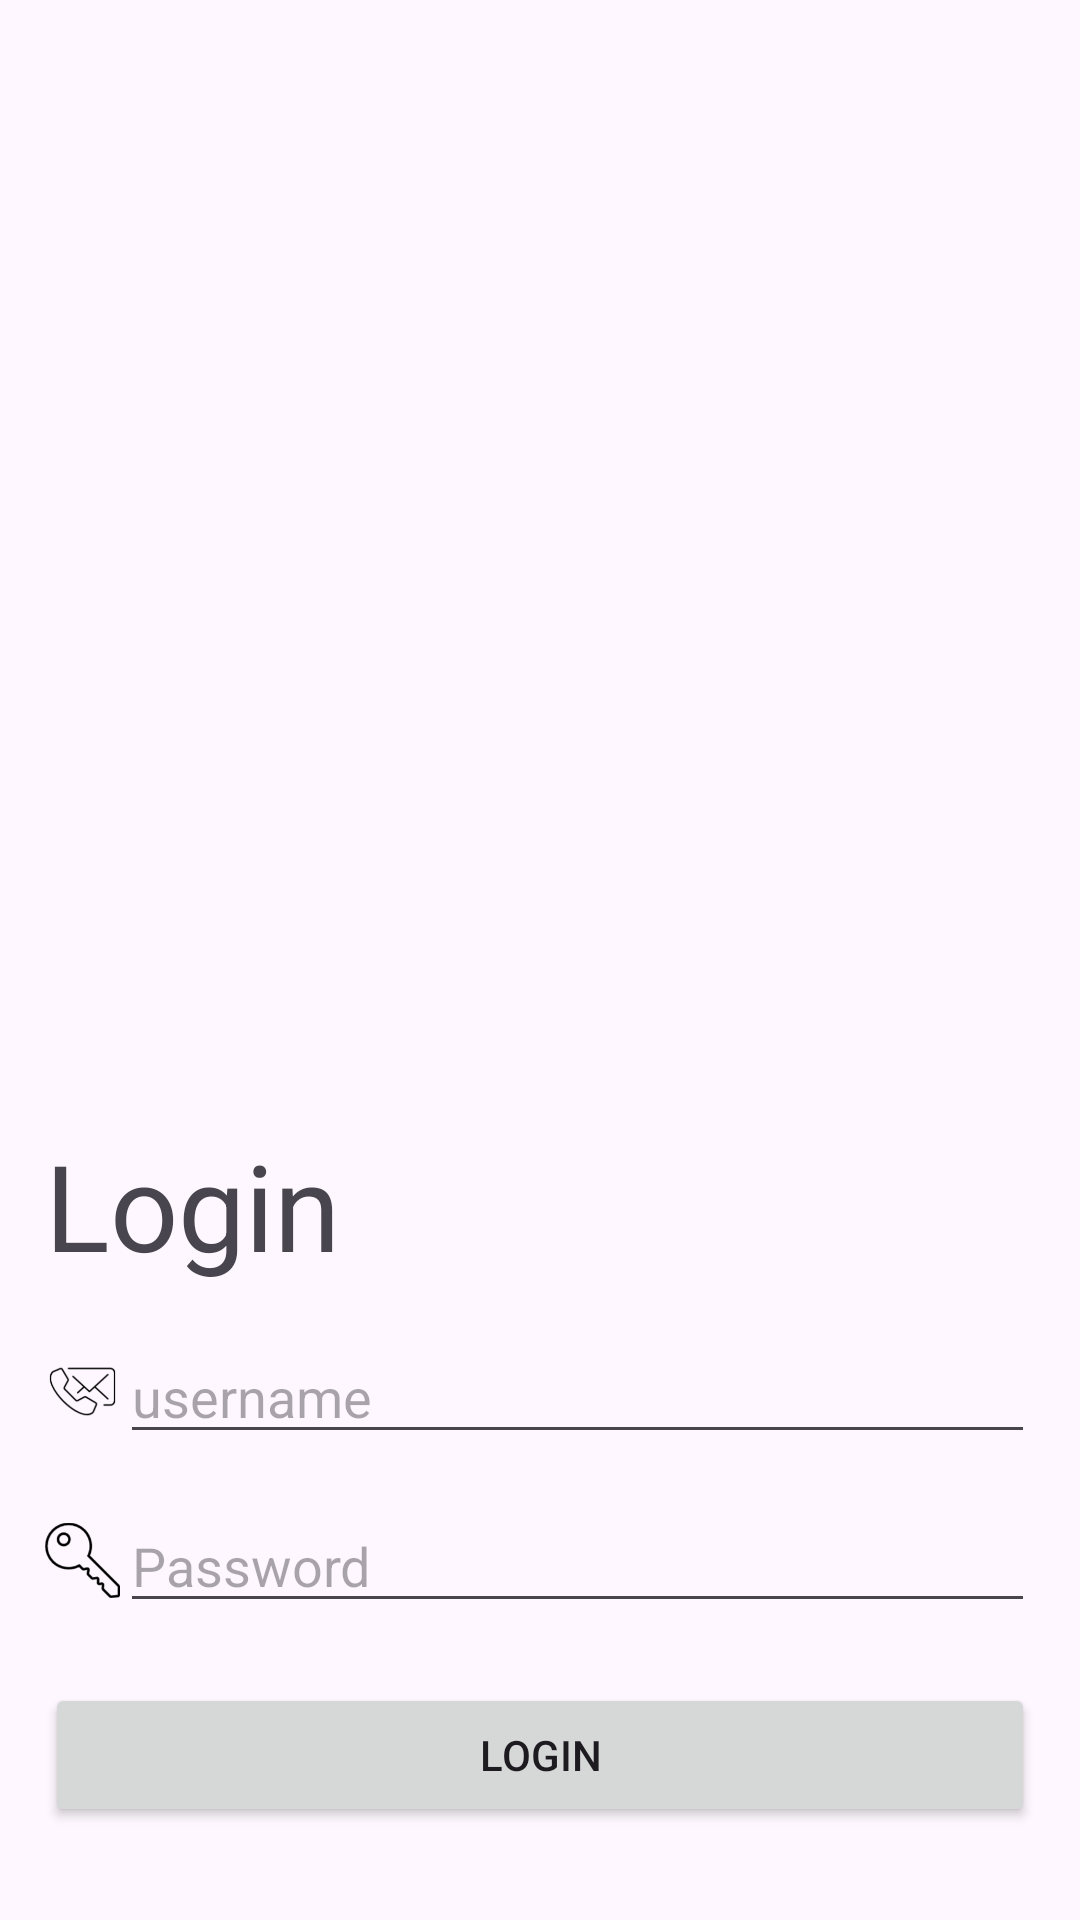

Icons on this 1080 x 1920 Android screen, each with its box as (x1, y1, x2, y2):
key: (45, 1523, 120, 1598)
mailphone: (49, 1367, 116, 1416)
